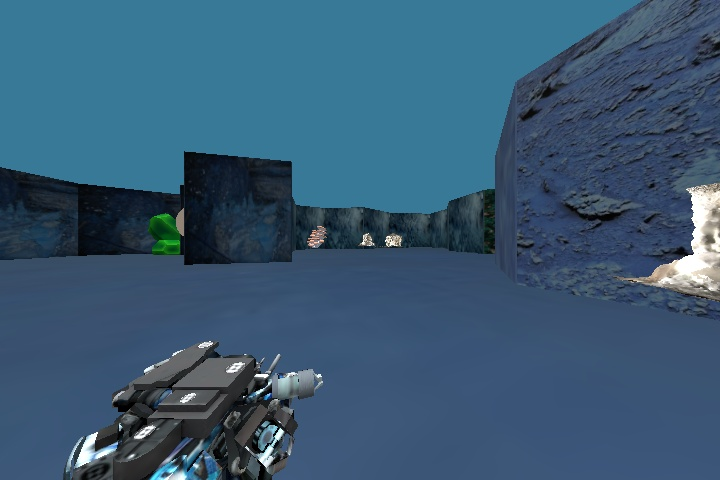formation: (355, 226, 406, 249)
green_crystal: (140, 206, 181, 256)
mushrooms: (309, 217, 330, 249)
